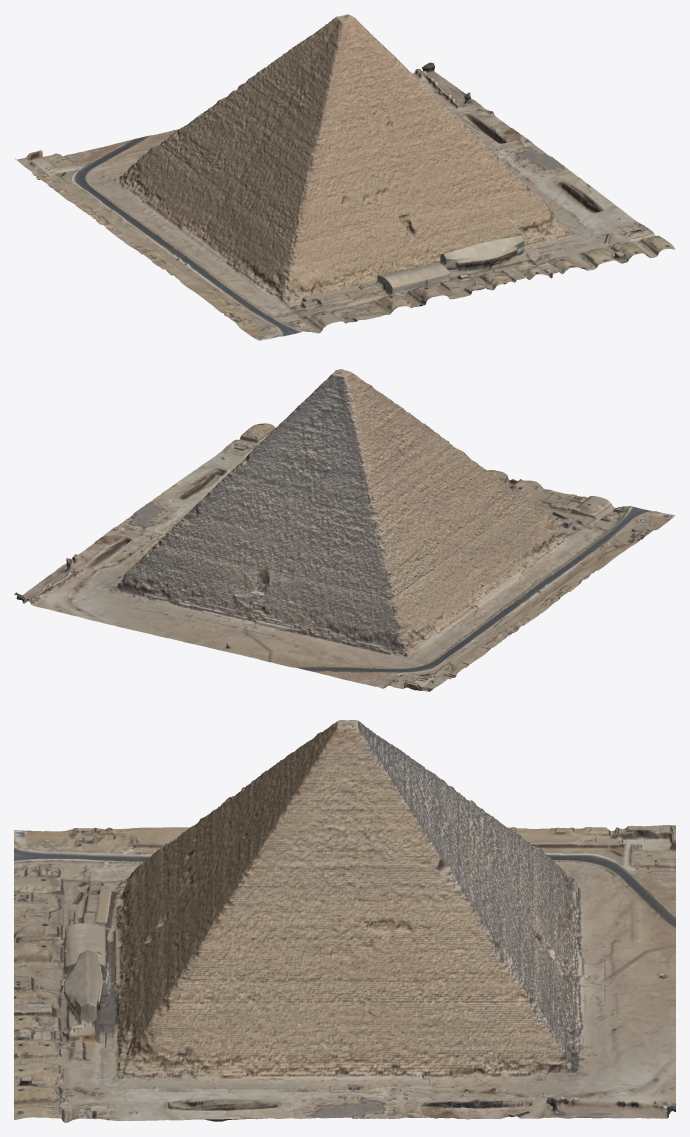
3 renders of one model, top to bottom at view 1: azimuth 30°, elevation 25°; view 2: azimuth 150°, elevation 25°; view 3: azimuth 270°, elevation 25°, orthographic. The views are drawn at different scales.
Visible parts, largest first — view 1: EGY_001_M3_Khephren; view 2: EGY_001_M3_Khephren; view 3: EGY_001_M3_Khephren.
Part boxes in pixels (x1,y1,x2,y2): EGY_001_M3_Khephren: (14,14,675,340); EGY_001_M3_Khephren: (14,369,675,691); EGY_001_M3_Khephren: (14,720,675,1122).
Size of the model in its own units: 319 by 148 by 324.
1 material, 1 textured.
